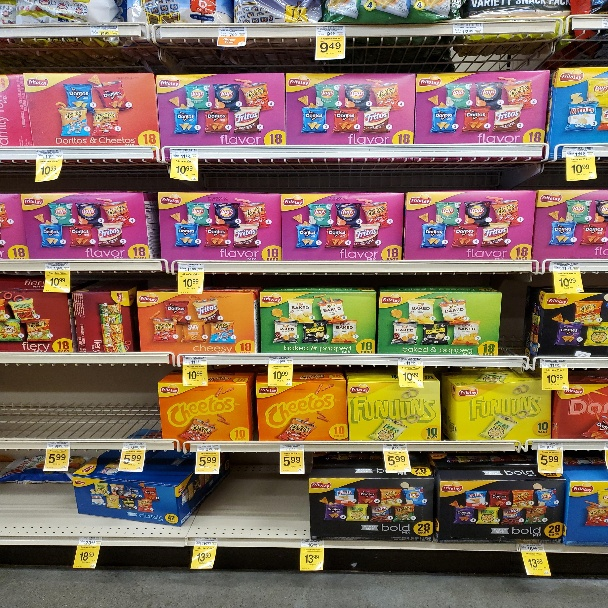All PRICE TAGS: (452, 23, 483, 34), (566, 146, 595, 157), (89, 25, 118, 36), (218, 27, 247, 37), (316, 26, 345, 36), (36, 150, 63, 160), (171, 148, 198, 158), (542, 358, 568, 368), (520, 542, 545, 552), (553, 262, 580, 271), (538, 442, 563, 451), (179, 263, 204, 272), (121, 442, 145, 451), (267, 356, 293, 364), (79, 537, 102, 546), (301, 539, 324, 548), (45, 263, 70, 271), (383, 443, 407, 451), (47, 442, 70, 450), (184, 356, 207, 364), (194, 538, 217, 546), (398, 357, 423, 364), (197, 444, 221, 451), (280, 444, 304, 451)
